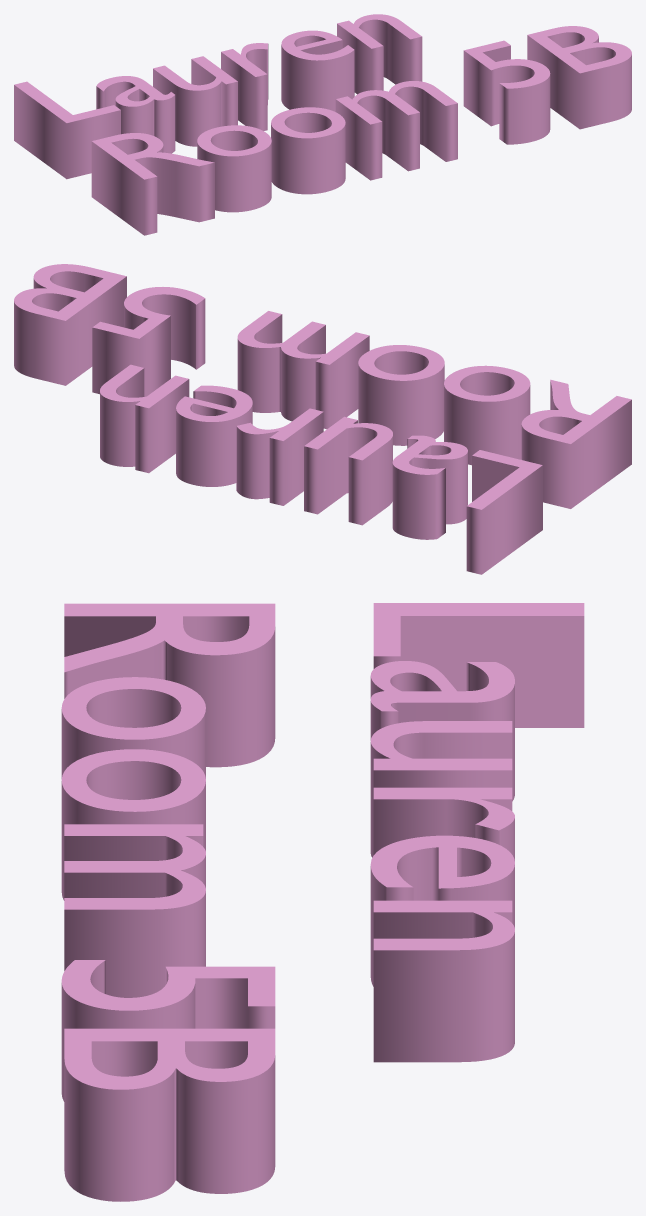
The model's file is Lauren-5B.gltf.
3 renders of one model, top to bottom at view 1: azimuth 30°, elevation 25°; view 2: azimuth 150°, elevation 25°; view 3: azimuth 270°, elevation 25°, orthographic. The views are drawn at different scales.
Parts seen in each view (by area): view 1: Text; view 2: Text; view 3: Text.
Part boxes in pixels (x1,y1,x2,y2): Text: (14, 14, 631, 235); Text: (14, 264, 631, 574); Text: (61, 603, 584, 1201).
Bounding box in the file's own units: 3.73 × 0.4 × 1.69.
